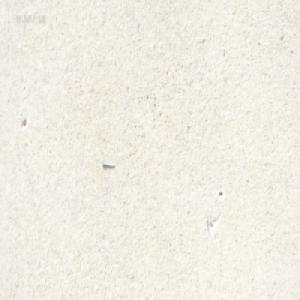Nail: (101, 159, 114, 168)
